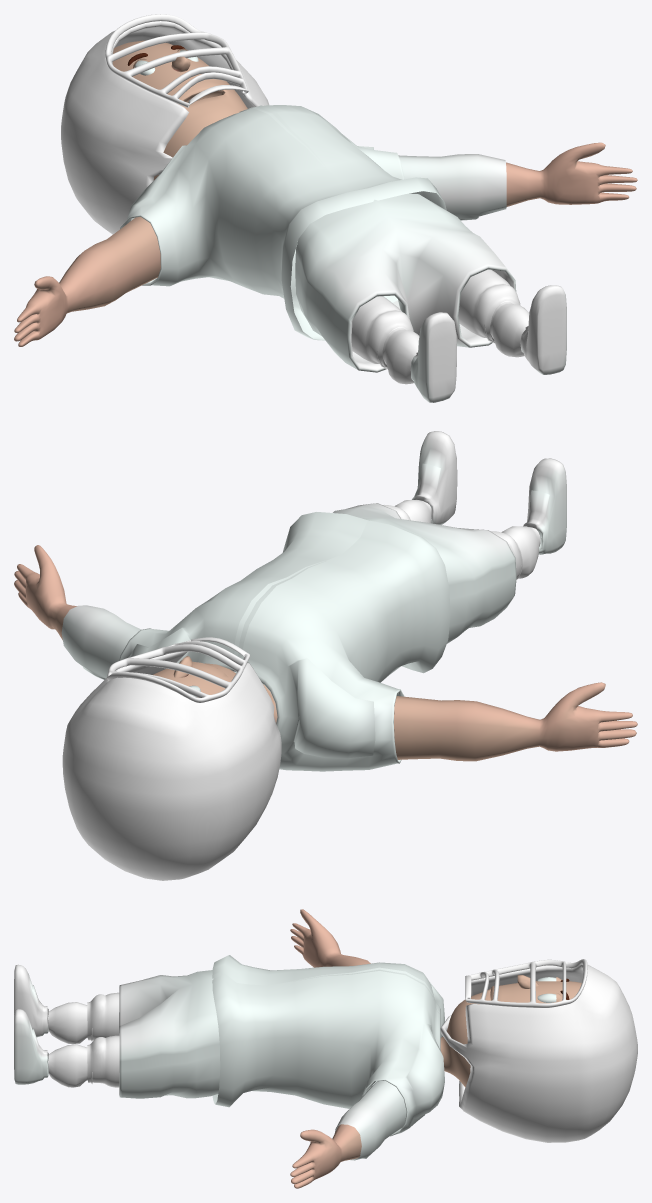
Rendered from FutbolistaAmericano4.fbx.
3 renders of one model, top to bottom at view 1: azimuth 30°, elevation 25°; view 2: azimuth 150°, elevation 25°; view 3: azimuth 270°, elevation 25°, orthographic. The views are drawn at different scales.
Parts seen in each view (by area): view 1: Cube.003; view 2: Cube.003; view 3: Cube.003.
Part boxes in pixels (x1,y1,x2,y2): Cube.003: (14,14,637,402); Cube.003: (14,431,637,880); Cube.003: (14,909,637,1188).
Bounding box in the file's own units: 128 × 40.91 × 137.
